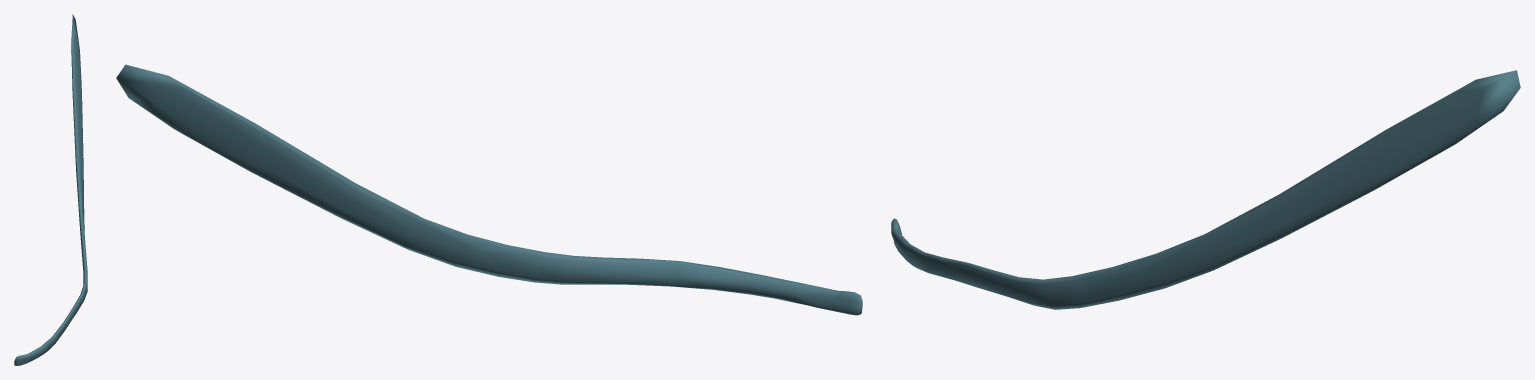
Rendered from Mylohyoid_mandible_left.glb.
The picture shows the model from 3 angles, left to right: view 1: azimuth 30°, elevation 25°; view 2: azimuth 150°, elevation 25°; view 3: azimuth 270°, elevation 25°; orthographic projection. The views are drawn at different scales.
Parts seen in each view (by area): view 1: Mylohyoid_muscle_on_mandible.l_Generated_Mesh_From_X3D.766; view 2: Mylohyoid_muscle_on_mandible.l_Generated_Mesh_From_X3D.766; view 3: Mylohyoid_muscle_on_mandible.l_Generated_Mesh_From_X3D.766.
Part boxes in pixels (x1=…): Mylohyoid_muscle_on_mandible.l_Generated_Mesh_From_X3D.766: x1=14, y1=14, x2=87, y2=365; Mylohyoid_muscle_on_mandible.l_Generated_Mesh_From_X3D.766: x1=116, y1=64, x2=862, y2=315; Mylohyoid_muscle_on_mandible.l_Generated_Mesh_From_X3D.766: x1=891, y1=70, x2=1520, y2=309.
Size of the model in its own units: 0.0262 by 0.0216 by 0.0329.
